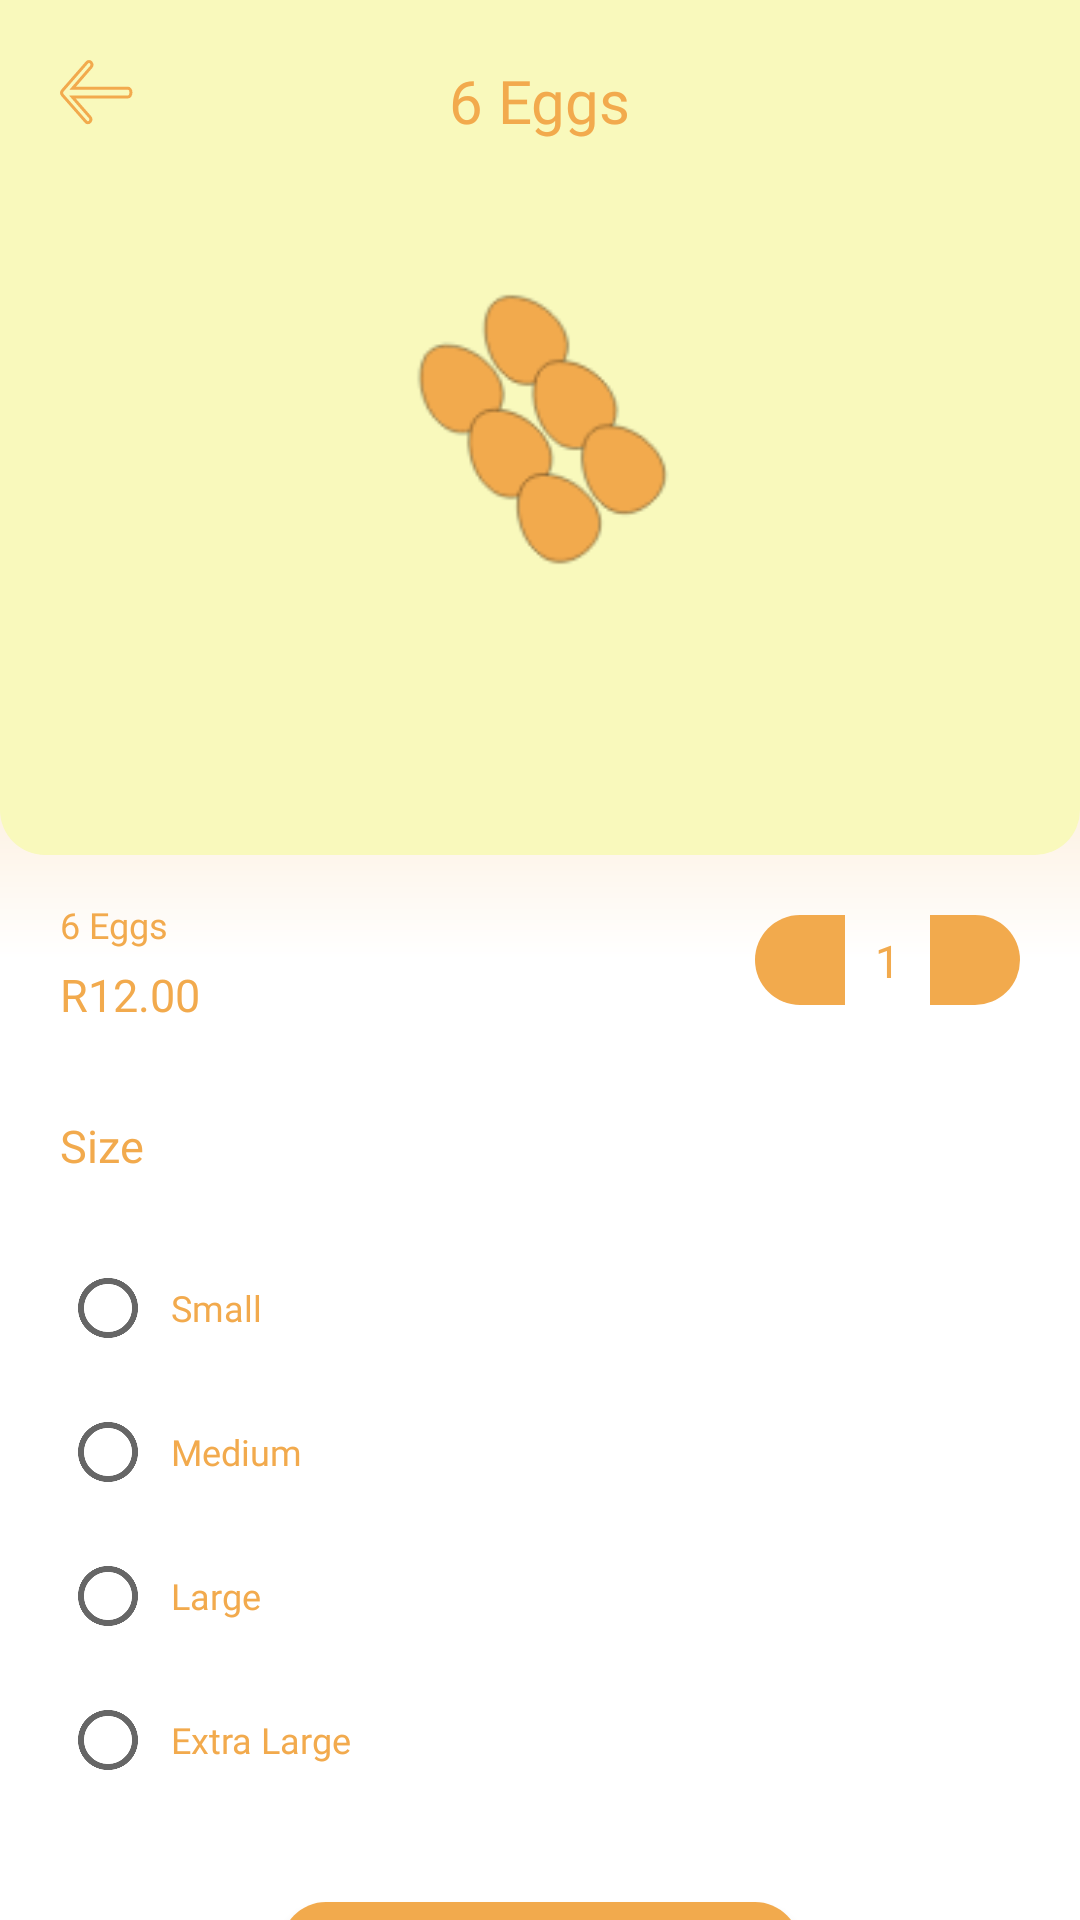

Where icons sit on this 1080×1920 app screen, as rect(x1, y1, x2, y2):
back: rect(60, 60, 133, 124)
